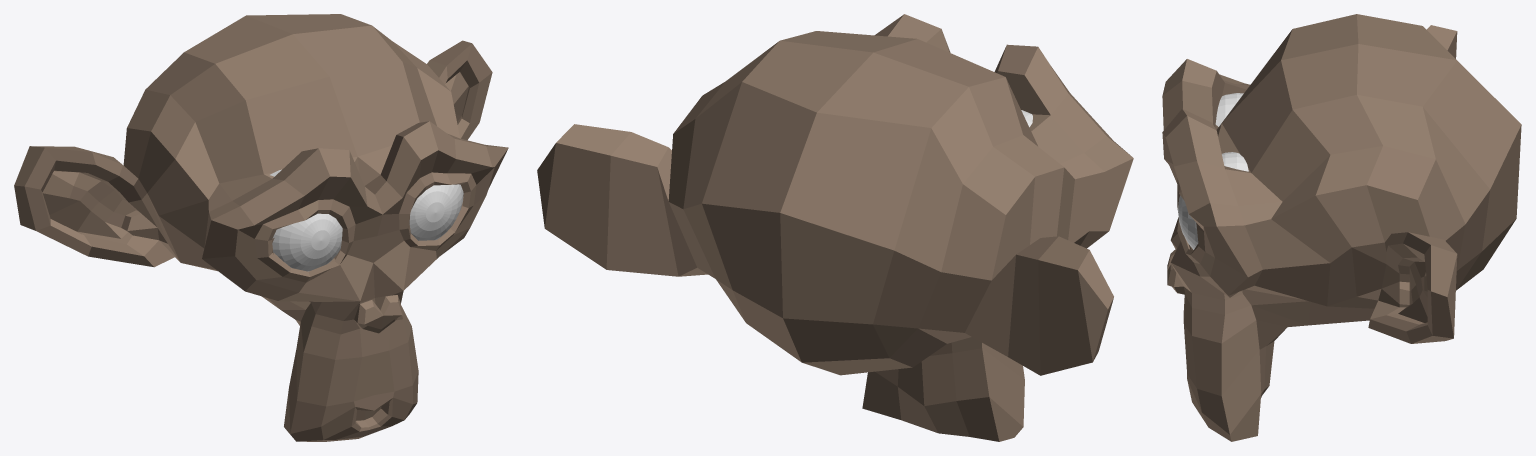
File: tete-de-singe.glb
The picture shows the model from 3 angles, left to right: view 1: azimuth 30°, elevation 25°; view 2: azimuth 150°, elevation 25°; view 3: azimuth 270°, elevation 25°; orthographic projection. The views are drawn at different scales.
Parts seen in each view (by area): view 1: tete, oeils; view 2: tete; view 3: tete, oeils.
Part boxes in pixels (x1=…): tete: x1=14, y1=14, x2=508, y2=441; oeils: x1=270, y1=169, x2=463, y2=271; tete: x1=537, y1=14, x2=1133, y2=441; tete: x1=1162, y1=14, x2=1521, y2=441; oeils: x1=1178, y1=93, x2=1248, y2=249.
Size of the model in its own units: 2.73 by 1.97 by 1.7.
